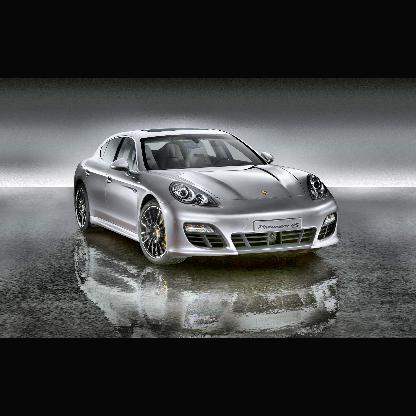Porsche Panamera Sedan 2012: (76, 129, 340, 270)
